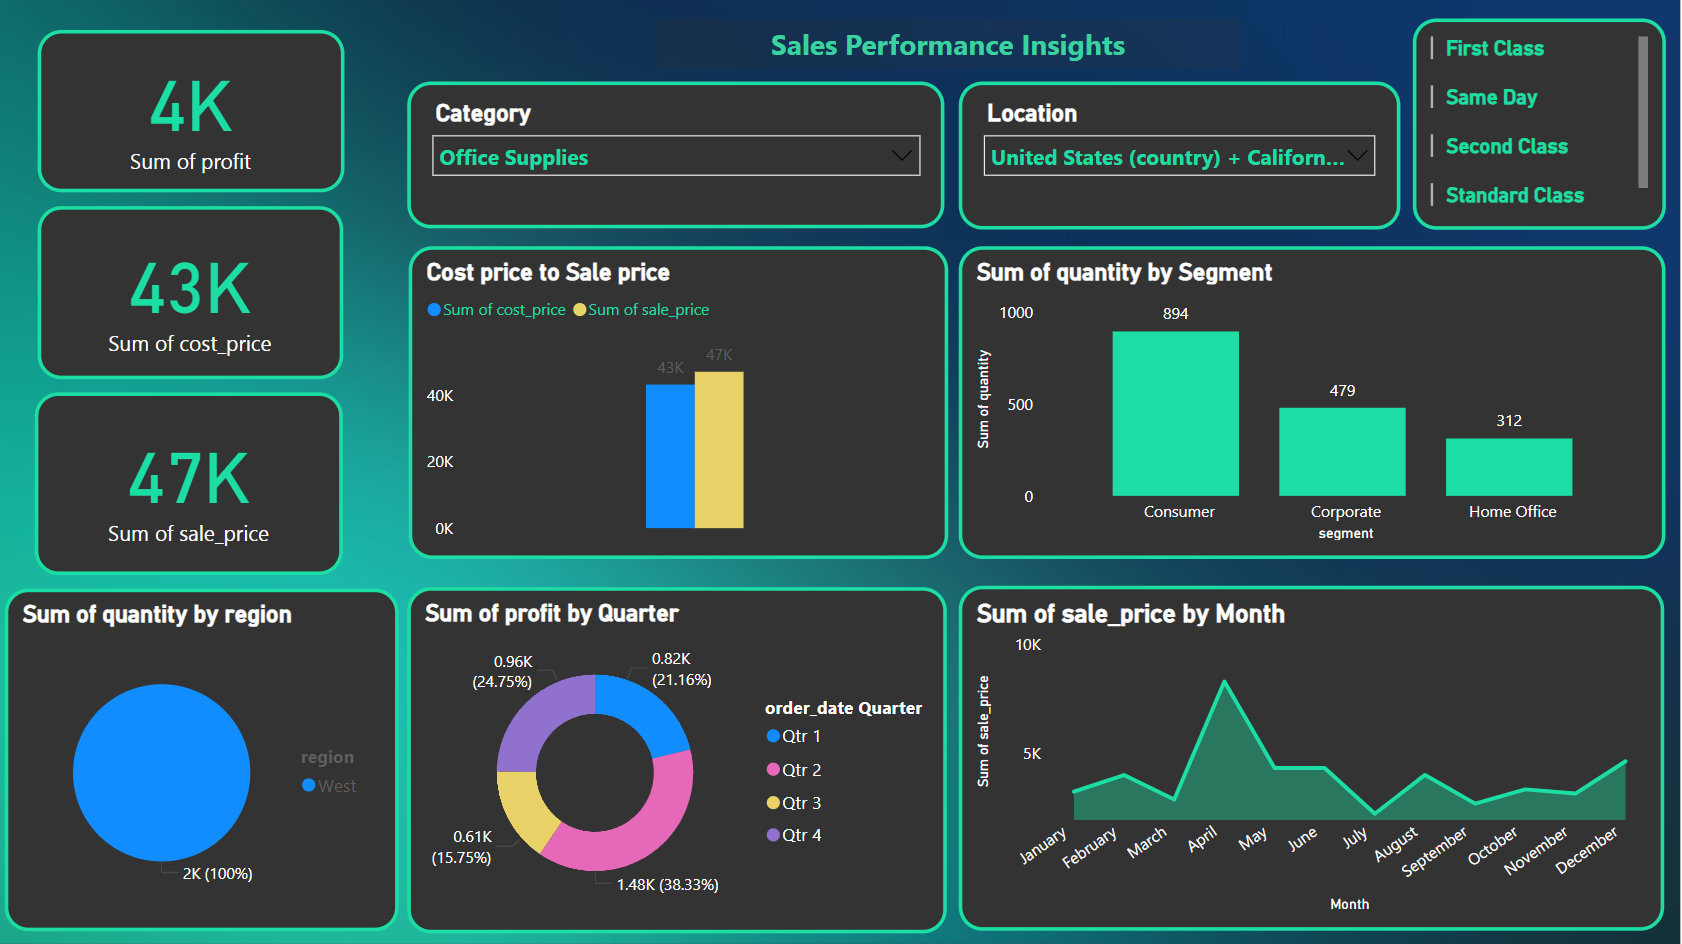

The dashboard page shown, as its layout file describes it:
{"tool":"powerbi","page":{"name":"Sales Performance","canvas":[1280,720],"ordinal":0},"visuals":[{"type":"card","fields":{"Values":["Sum(updated_retail_orders.sale_price)"]},"box":[27.8,299.6,234.8,138.8],"z":0},{"type":"card","fields":{"Values":["Sum(updated_retail_orders.profit)"]},"box":[28.9,24.3,233.6,123.8],"z":1000},{"type":"stackedAreaChart","fields":{"Category":["updated_retail_orders.order_date.Variation.Date Hierarchy.Month"],"Y":["Sum(updated_retail_orders.sale_price)"]},"box":[731.2,447.5,537.5,262.5],"z":2000},{"type":"donutChart","fields":{"Category":["updated_retail_orders.order_date.Variation.Date Hierarchy.Quarter"],"Y":["Sum(updated_retail_orders.profit)"]},"box":[310.4,448,410.7,263.5],"z":3000},{"type":"slicer","fields":{"Values":["updated_retail_orders.country","updated_retail_orders.state","updated_retail_orders.city"]},"box":[731.2,63.8,336.2,112.5],"z":4000},{"type":"slicer","fields":{"Values":["updated_retail_orders.category","updated_retail_orders.sub_category"]},"box":[311.1,63.6,409.4,112.2],"z":5000},{"type":"pieChart","fields":{"Category":["updated_retail_orders.region"],"Y":["Sum(updated_retail_orders.quantity)"]},"box":[4.3,449.1,299.7,261.3],"z":6000},{"type":"clusteredColumnChart","title":"Cost price to Sale price","fields":{"Y":["Sum(updated_retail_orders.cost_price)","Sum(updated_retail_orders.sale_price)"]},"box":[311.5,188.8,410.7,237.9],"z":7000},{"type":"clusteredColumnChart","title":"Sum of quantity by Segment","fields":{"Y":["Sum(updated_retail_orders.quantity)"],"Category":["updated_retail_orders.segment"]},"box":[731,188.5,537.8,238.3],"z":8000},{"type":"multiRowCard","fields":{"Values":["updated_retail_orders.ship_mode"]},"box":[1076.8,15,193.2,160.8],"z":9000},{"type":"card","fields":{"Values":["Sum(updated_retail_orders.cost_price)"]},"box":[28.9,158.5,232.5,131.9],"z":10000},{"type":"shape","box":[500,15,446.2,38.8],"z":11000}]}

Visuals, with their boxes in screenshot pixels (x1, y1, x2, y2), scaled from the page's 1280x720 canvas onto the 1682x944 screenshot:
card - Sum(updated_retail_orders.sale_price): box(37, 393, 345, 575)
card - Sum(updated_retail_orders.profit): box(38, 32, 345, 194)
stackedAreaChart - updated_retail_orders.order_date.Variation.Date Hierarchy.Month x Sum(updated_retail_orders.sale_price): box(961, 587, 1667, 931)
donutChart - updated_retail_orders.order_date.Variation.Date Hierarchy.Quarter x Sum(updated_retail_orders.profit): box(408, 587, 948, 933)
slicer - updated_retail_orders.country x updated_retail_orders.state: box(961, 84, 1403, 231)
slicer - updated_retail_orders.category x updated_retail_orders.sub_category: box(409, 83, 947, 230)
pieChart - updated_retail_orders.region x Sum(updated_retail_orders.quantity): box(6, 589, 399, 931)
"Cost price to Sale price" clusteredColumnChart: box(409, 248, 949, 559)
"Sum of quantity by Segment" clusteredColumnChart: box(961, 247, 1667, 560)
multiRowCard - updated_retail_orders.ship_mode: box(1415, 20, 1669, 230)
card - Sum(updated_retail_orders.cost_price): box(38, 208, 343, 381)
shape: box(657, 20, 1243, 71)
